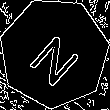N_NE: (23, 21, 86, 85)
